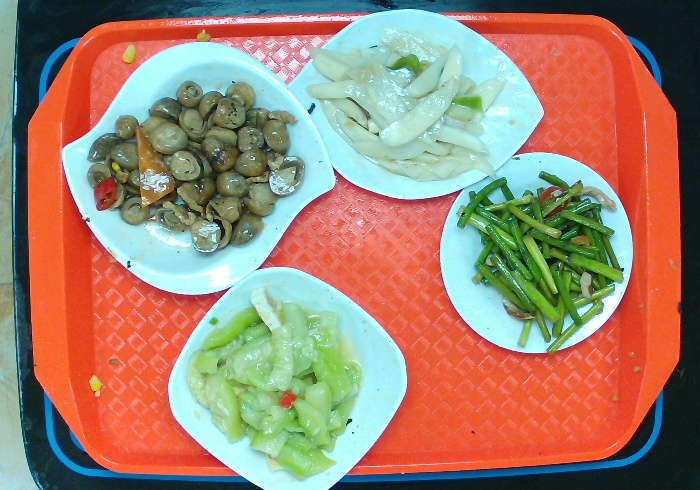RJxy-Da_Du_Pan: (280, 1, 549, 207)
RJxy-Shuang_Jiao_Pan: (53, 35, 338, 300)
RJxy-Si_Fang_Wan: (164, 260, 416, 490)
RJxy-Xiao_Yuan_Die: (434, 145, 638, 357)
